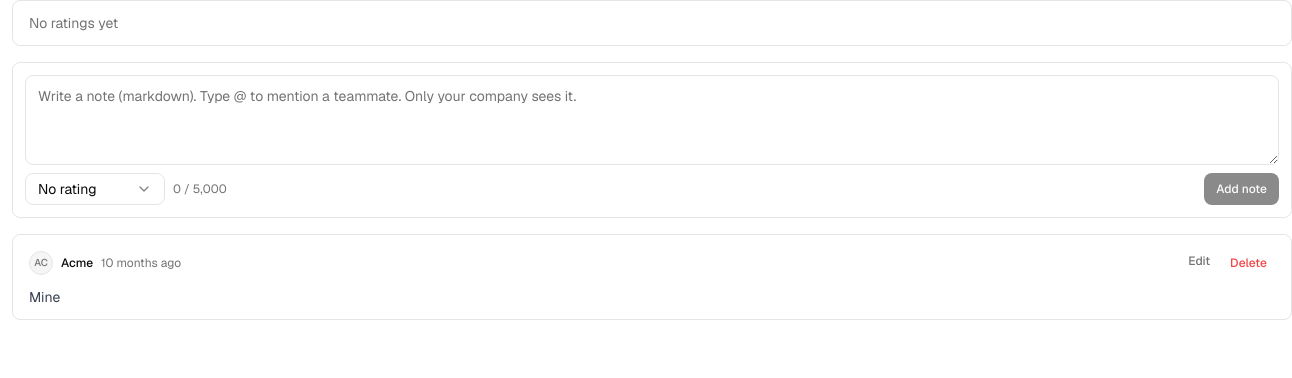
Test: NotesPanel (PLT-054) › deletes a note after confirming
The image size is (1292, 378).
Click the button "Delete". click: (1249, 263)
box: top-left (1222, 247), bottom-right (1275, 279)
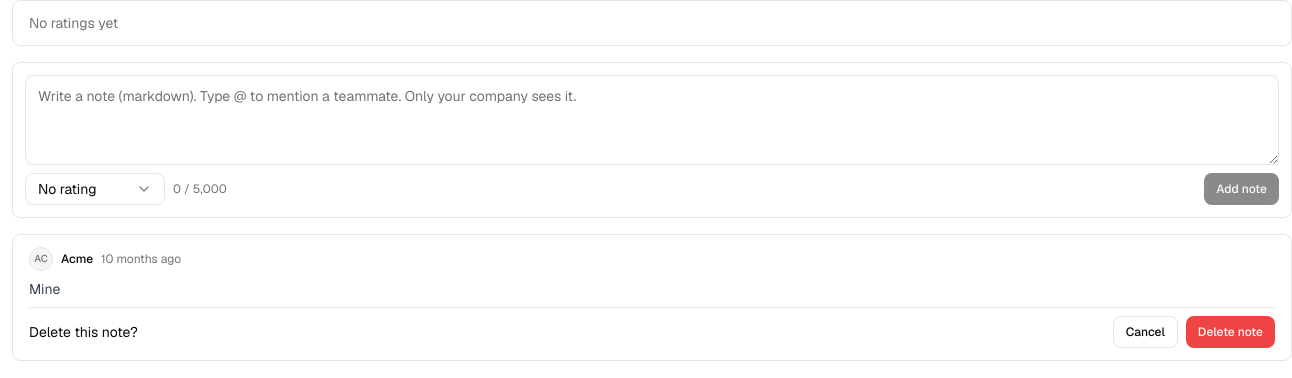
Click the button "Delete note". click: (1230, 332)
box: top-left (1186, 316), bottom-right (1275, 348)
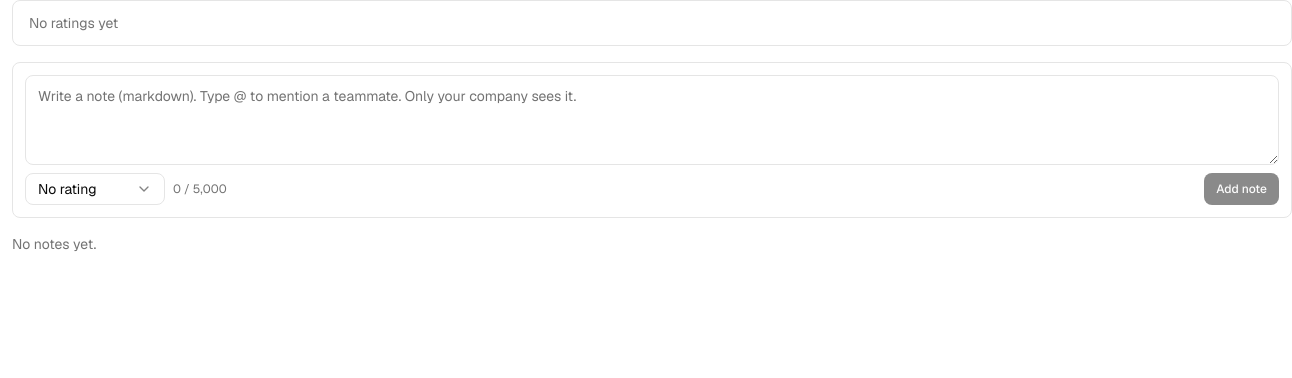
Check: the text "Mine" is gone
